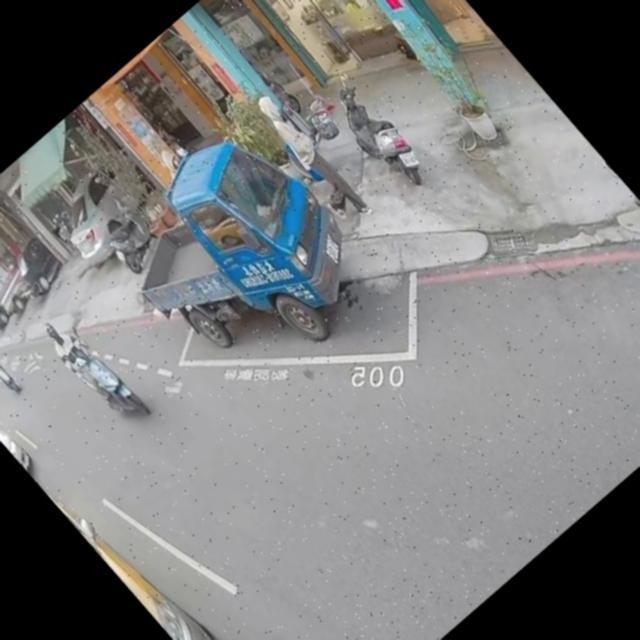person: (242, 85, 377, 232), (37, 313, 132, 417), (151, 141, 192, 183), (164, 134, 196, 167)
